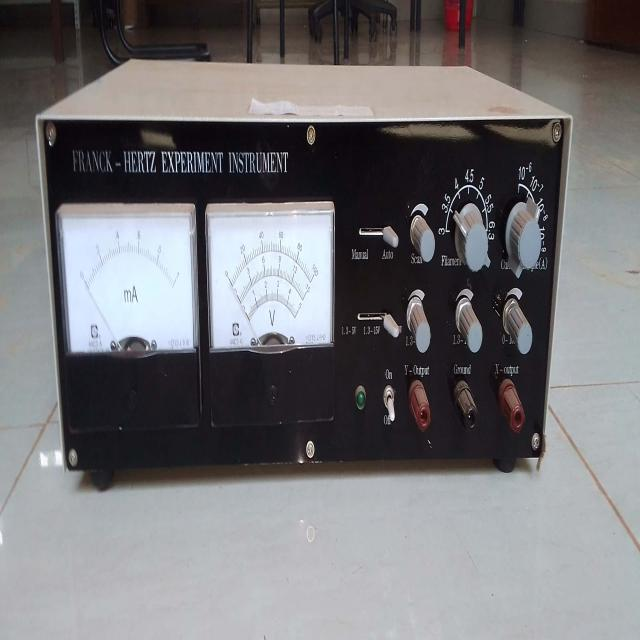Frank-Hertz Experiment Apparatus: (31, 54, 584, 500)
